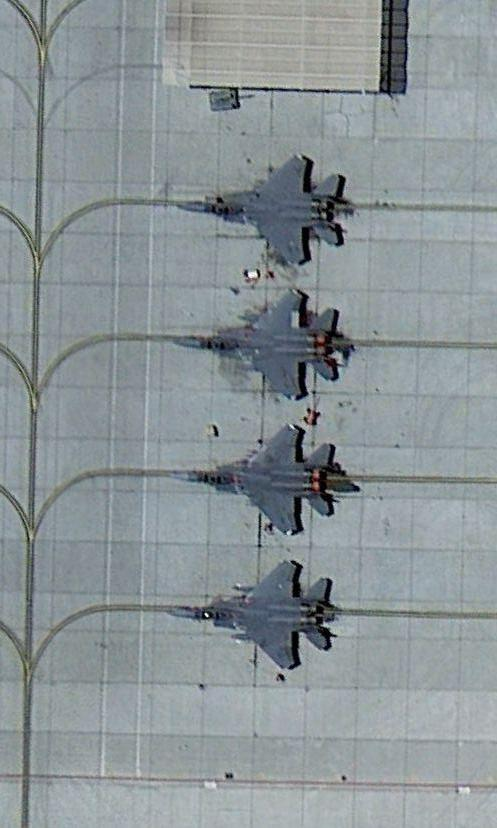F-15: (178, 148, 349, 266), (177, 285, 346, 400), (175, 558, 340, 673), (185, 426, 344, 532)
